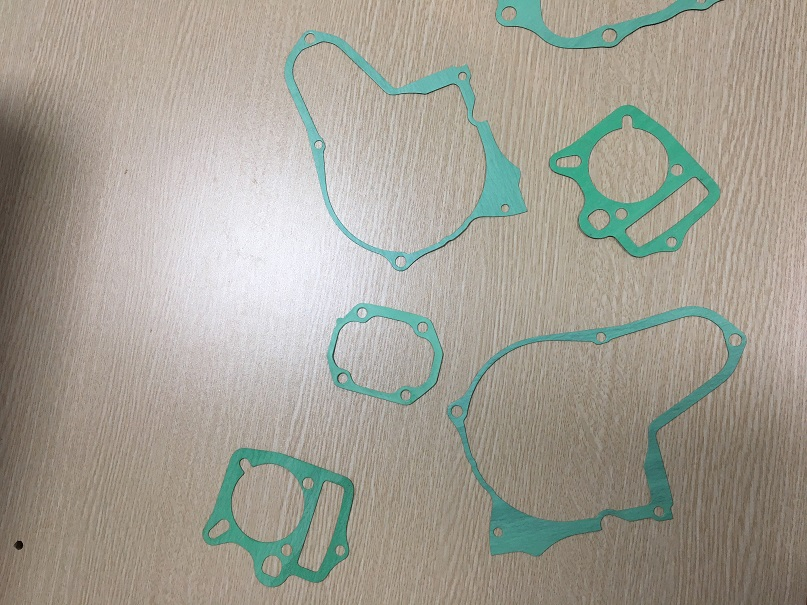type1: (441, 294, 756, 564), (284, 20, 534, 281)
type2: (320, 297, 445, 408)
type4: (543, 99, 727, 265), (198, 439, 370, 592)
